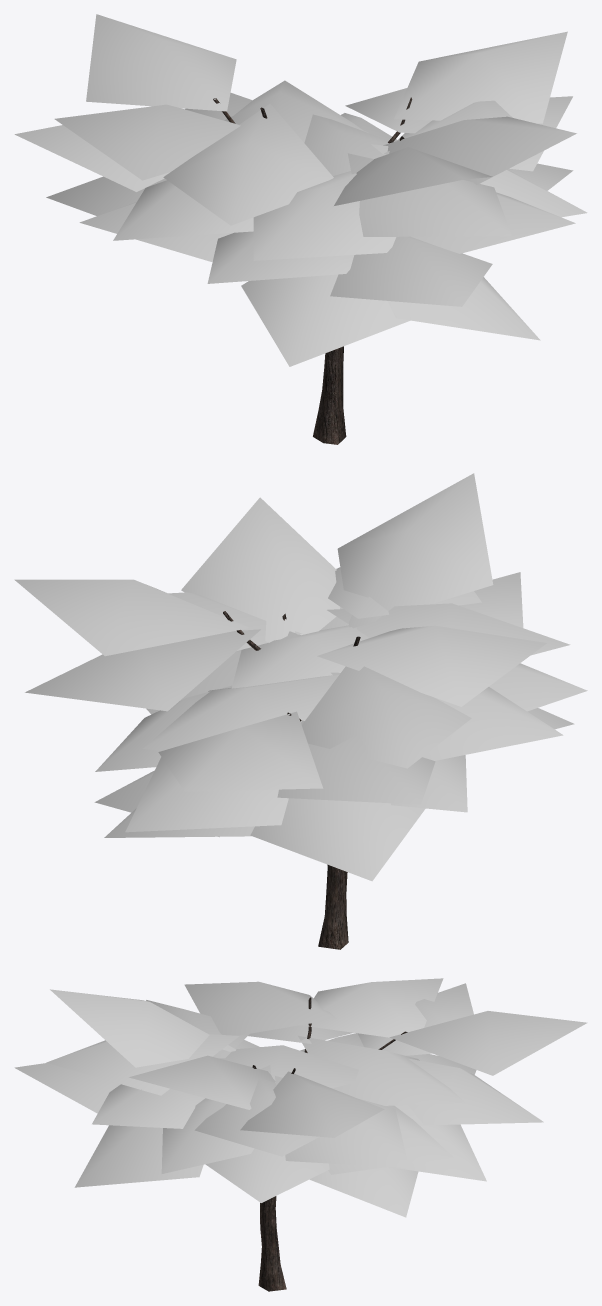
Rendered from arce01_unwrap.FBX.
3 renders of one model, top to bottom at view 1: azimuth 30°, elevation 25°; view 2: azimuth 150°, elevation 25°; view 3: azimuth 270°, elevation 25°, orthographic. The views are drawn at different scales.
Parts seen in each view (by area): view 1: Plane025, TRONCO; view 2: Plane025, TRONCO; view 3: Plane025, TRONCO.
Part boxes in pixels (x1,y1,x2,y2): Plane025: [14, 14, 587, 366]; TRONCO: [213, 97, 412, 444]; Plane025: [14, 473, 587, 881]; TRONCO: [223, 611, 360, 949]; Plane025: [14, 978, 587, 1217]; TRONCO: [252, 997, 407, 1291].
Bounding box in the file's own units: 417 × 288 × 506.
